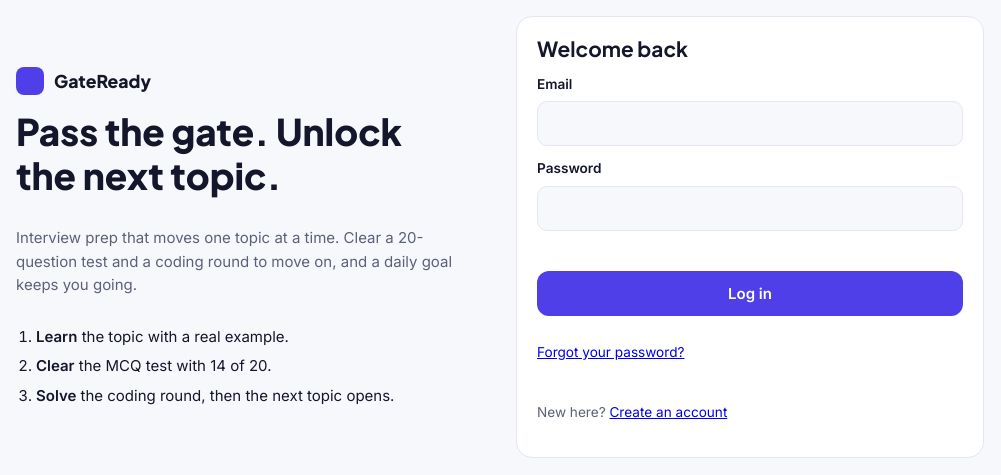
Test: login page › links to the forgot password page
Click the link "Forgot your password?": (611, 352) [537,344,684,360]
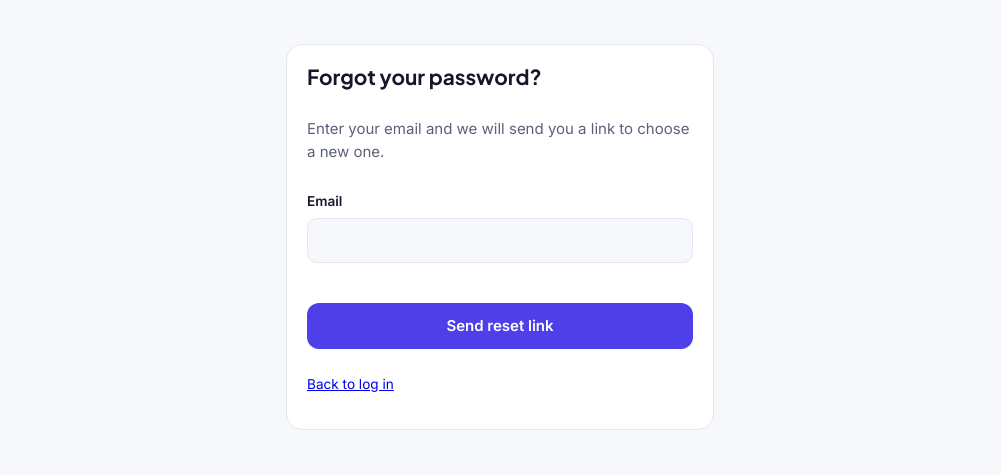
Now the heading "Forgot your password?" is shown, box [307,63,542,90]
